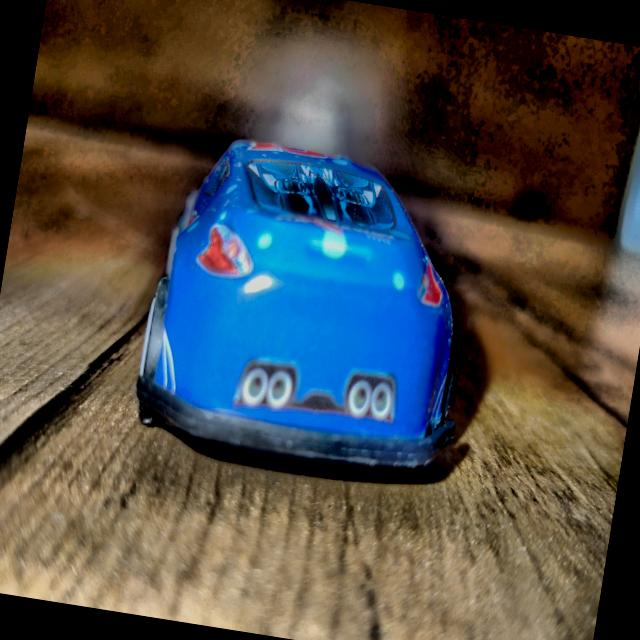Car: (130, 130, 493, 482)
